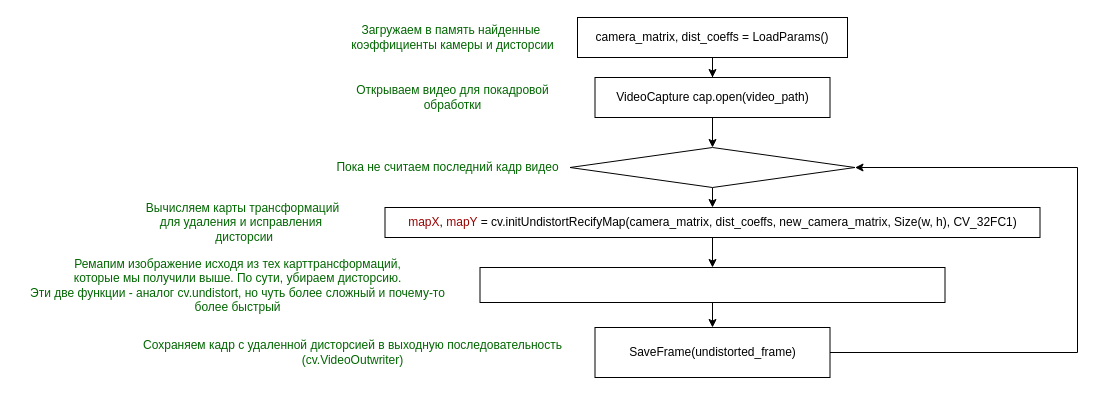
Some shapes in this 1103 by 395 pixel diagram are drawn without their labels. Each missing label, with the box of its shape:
undistorted_frame = remap(current_frame, mapX , mapY , INTER_LINEAR): (479, 266, 945, 302)
while(current_frame != last_frame: (569, 146, 855, 188)
